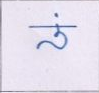anusvara: (55, 14, 58, 17)
